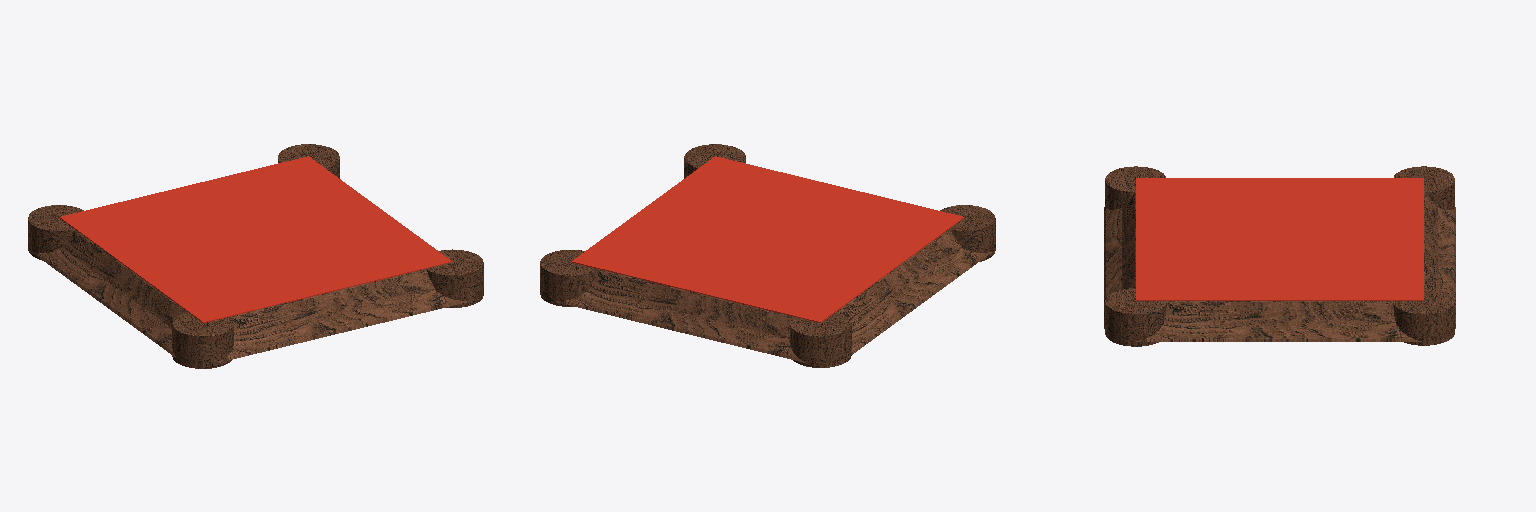
3 views of the same model, side by side, from view 1: azimuth 30°, elevation 25°; view 2: azimuth 150°, elevation 25°; view 3: azimuth 270°, elevation 25° (orthographic).
Parts seen in each view (by area): view 1: s.0073, p.0086, p.0095, p.0097Mirrored, p.0095Mirrored, p.0097, p.0096; view 2: s.0073, p.0086, p.0097Mirrored, p.0097, p.0095, p.0095Mirrored; view 3: s.0073, p.0086, p.0097, p.0095Mirrored, p.0097Mirrored, p.0095, p.0096.
Boxes of the visible parts, <box> form: s.0073: <box>59,156,452,322</box>; p.0086: <box>32,219,467,362</box>; p.0095: <box>172,312,233,368</box>; p.0097Mirrored: <box>28,205,83,260</box>; p.0095Mirrored: <box>427,249,483,307</box>; p.0097: <box>278,144,339,178</box>; p.0096: <box>426,250,480,307</box>; s.0073: <box>571,156,964,322</box>; p.0086: <box>556,219,991,362</box>; p.0097Mirrored: <box>790,312,851,367</box>; p.0097: <box>540,250,597,306</box>; p.0095: <box>940,205,995,261</box>; p.0095Mirrored: <box>684,144,745,178</box>; s.0073: <box>1136,178,1423,300</box>; p.0086: <box>1104,193,1455,341</box>; p.0097: <box>1393,288,1454,345</box>; p.0095Mirrored: <box>1106,288,1166,346</box>; p.0097Mirrored: <box>1394,166,1454,209</box>; p.0095: <box>1105,166,1165,209</box>; p.0096: <box>1105,288,1166,346</box>.
Size of the model in its own units: 0.9495 by 0.1005 by 0.9495.
Materials: 2 (2 with a texture image).